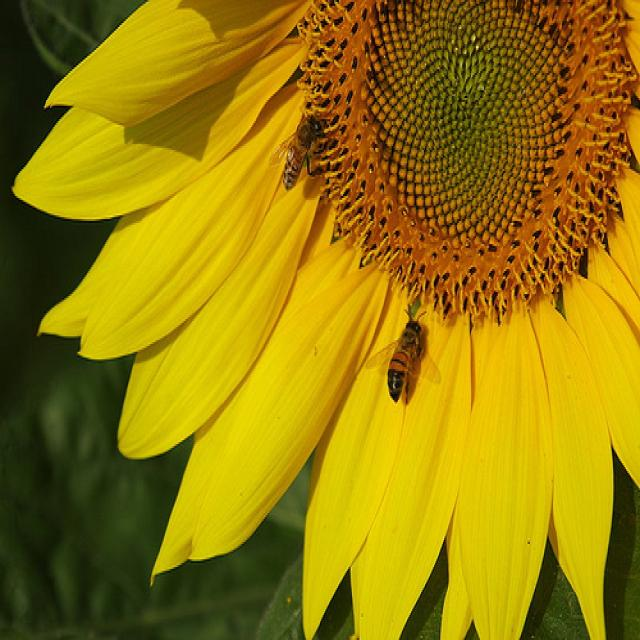sunflower: (36, 3, 640, 600)
